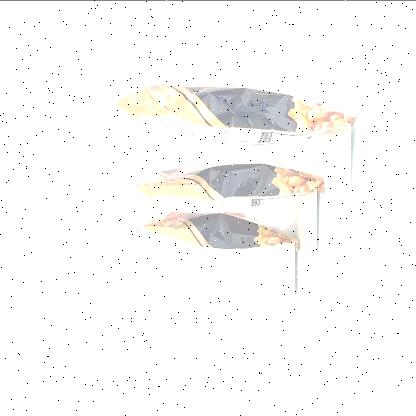Others: (88, 70, 368, 270)
